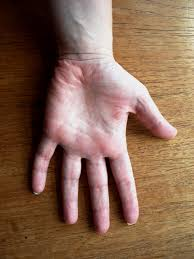palm: (46, 74, 135, 161)
